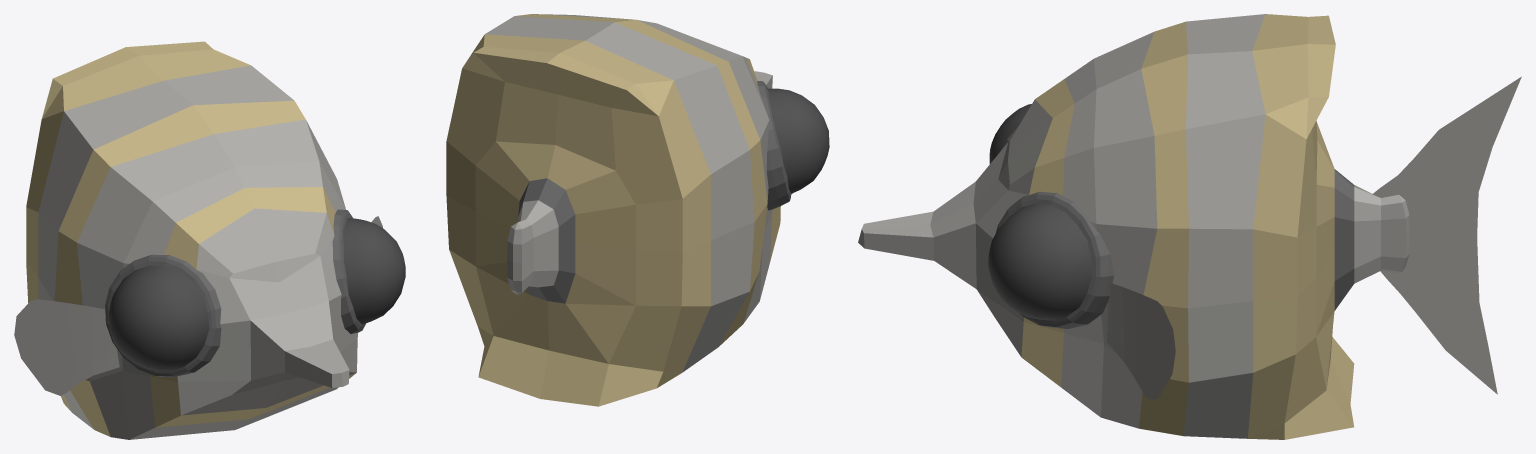
The model's file is butterflyfish.glb.
3 views of the same model, side by side, from view 1: azimuth 30°, elevation 25°; view 2: azimuth 150°, elevation 25°; view 3: azimuth 270°, elevation 25° (orthographic). The views are drawn at different scales.
Parts seen in each view (by area): view 1: cutefish__ButterflyFish.glb; view 2: cutefish__ButterflyFish.glb; view 3: cutefish__ButterflyFish.glb.
Part boxes in pixels (x1,y1,x2,y2): cutefish__ButterflyFish.glb: (14,41,405,439); cutefish__ButterflyFish.glb: (446,14,829,406); cutefish__ButterflyFish.glb: (858,14,1521,439).
Size of the model in its own units: 3.38 by 2.87 by 4.8.
